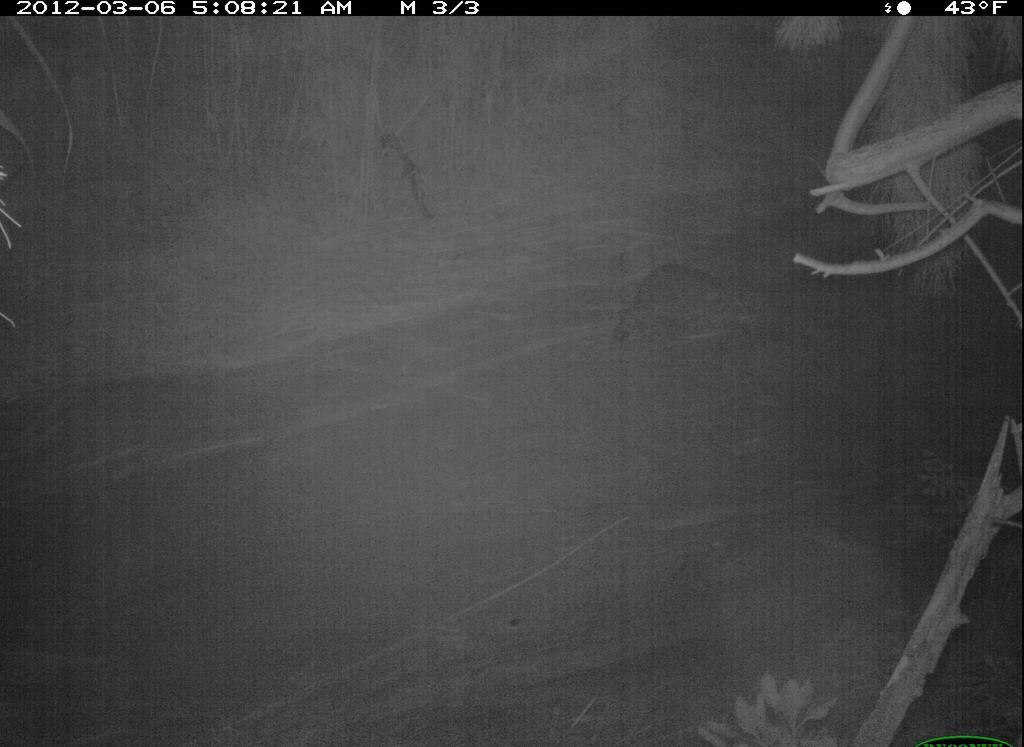raccoon: (597, 248, 760, 378)
